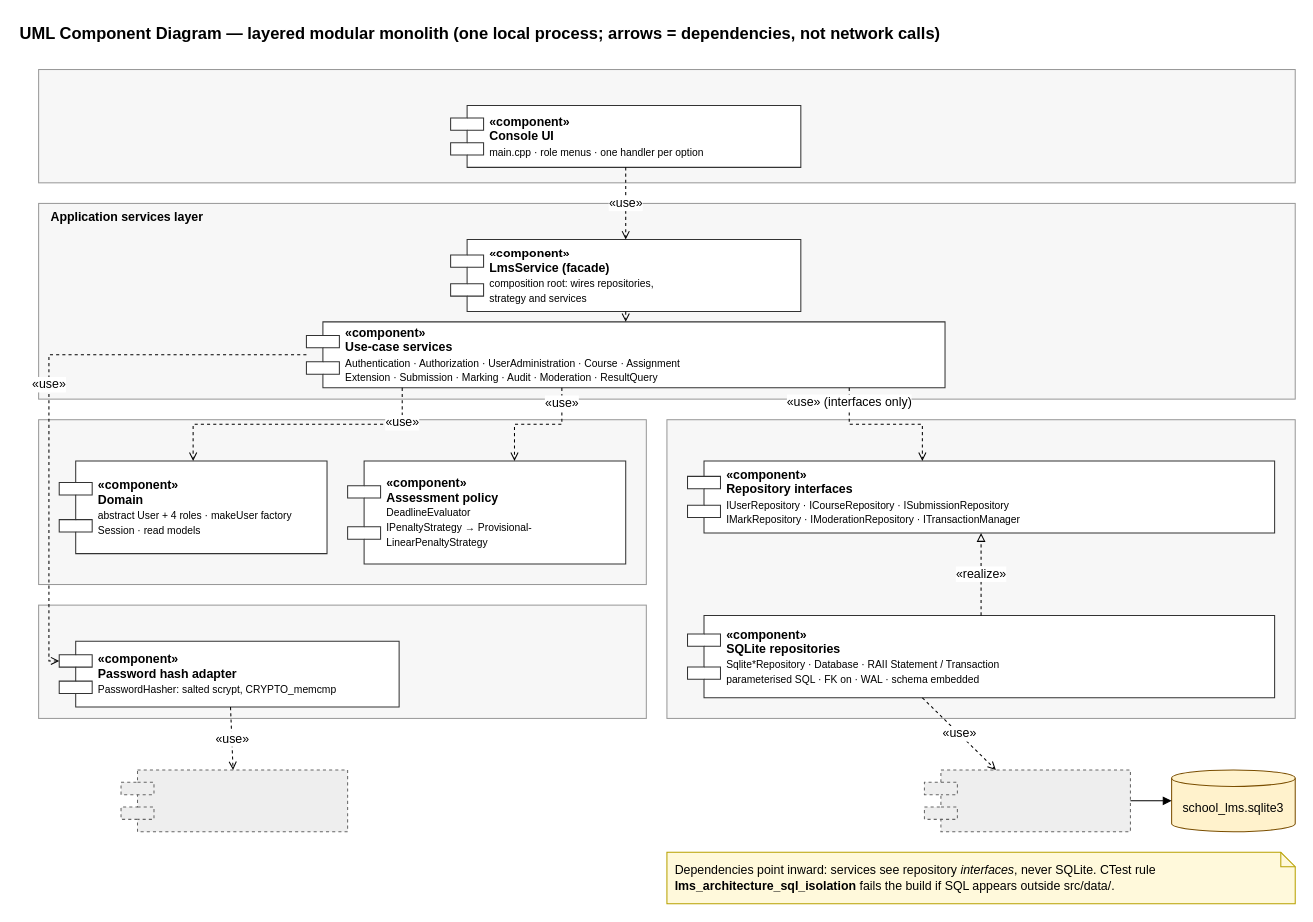
The diagram is 1313 pixels wide and 922 high, and some of its shapes have lost their labels. Each missing label, with the box of its shape:
Domain and policy layer: (38, 419, 646, 585)
Persistence layer (the only layer that knows SQLite): (666, 419, 1295, 718)
Presentation layer: (38, 68, 1295, 183)
Security adapter: (38, 604, 646, 718)
«library» OpenSSL libcrypto: (120, 769, 348, 832)
«library» SQLite 3: (923, 769, 1130, 832)
